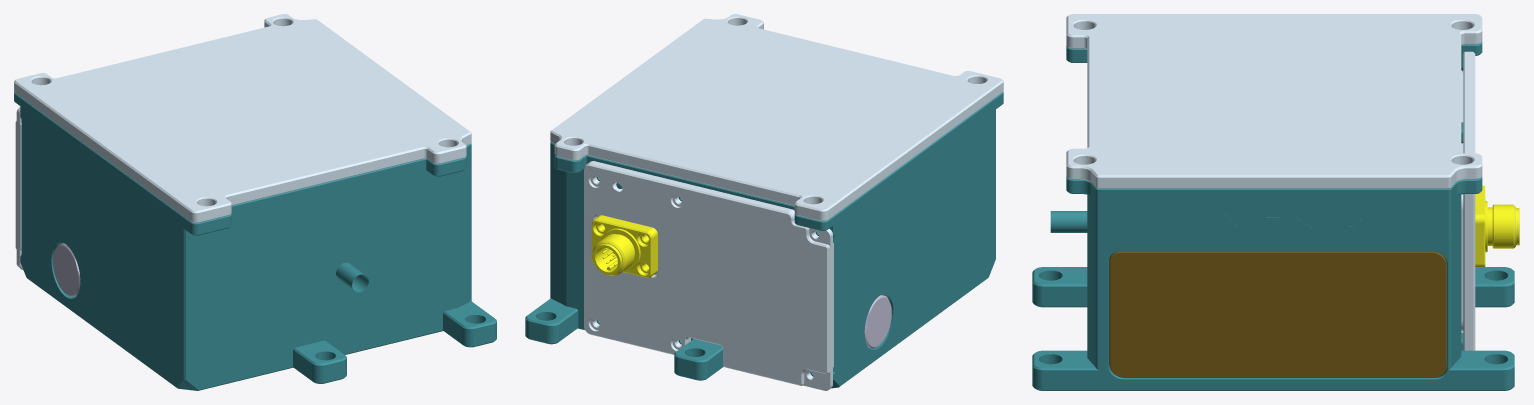
The model's file is HAP.dae.
The picture shows the model from 3 angles, left to right: view 1: azimuth 30°, elevation 25°; view 2: azimuth 150°, elevation 25°; view 3: azimuth 270°, elevation 25°; orthographic projection. The views are drawn at different scales.
Visible parts, largest first — view 1: node0, node4, node8, node12, node1; view 2: node4, node12, node0, node6, node22, node8; view 3: node4, node0, node3, node12, node6, node1, node22.
Boxes of the visible parts, x1,y1,x2,y2 form: node0: (14,92,496,390); node4: (14,14,471,222); node8: (53,243,80,296); node12: (15,107,23,269); node1: (336,262,368,292); node4: (550,14,1003,221); node12: (584,161,833,390); node0: (525,91,1003,388); node6: (591,215,657,277); node22: (592,221,650,277); node8: (864,295,891,348); node4: (1066,14,1482,188); node0: (1032,42,1514,390); node3: (1109,251,1446,377); node12: (1461,51,1475,350); node6: (1475,185,1519,267); node1: (1050,211,1087,232); node22: (1485,201,1513,252).
Size of the model in its own units: 0.105 by 0.1329 by 0.065.
